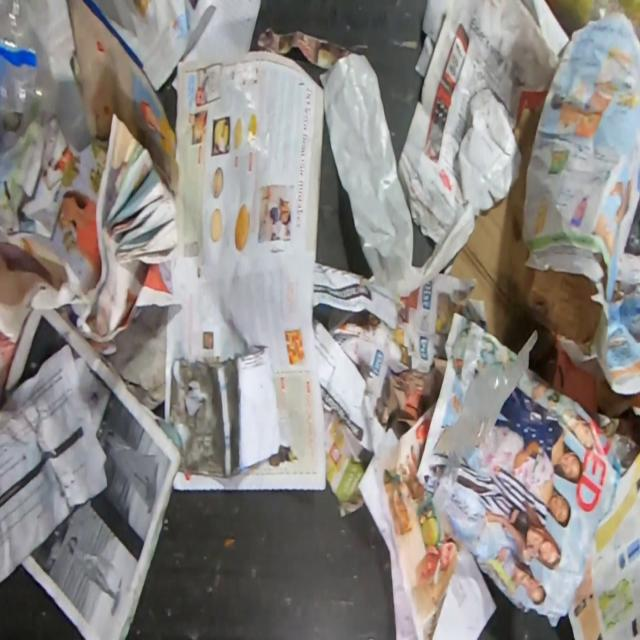cardboard: (450, 102, 602, 345)
soft_plastic: (318, 52, 522, 297), (431, 329, 538, 461), (0, 0, 48, 115)
